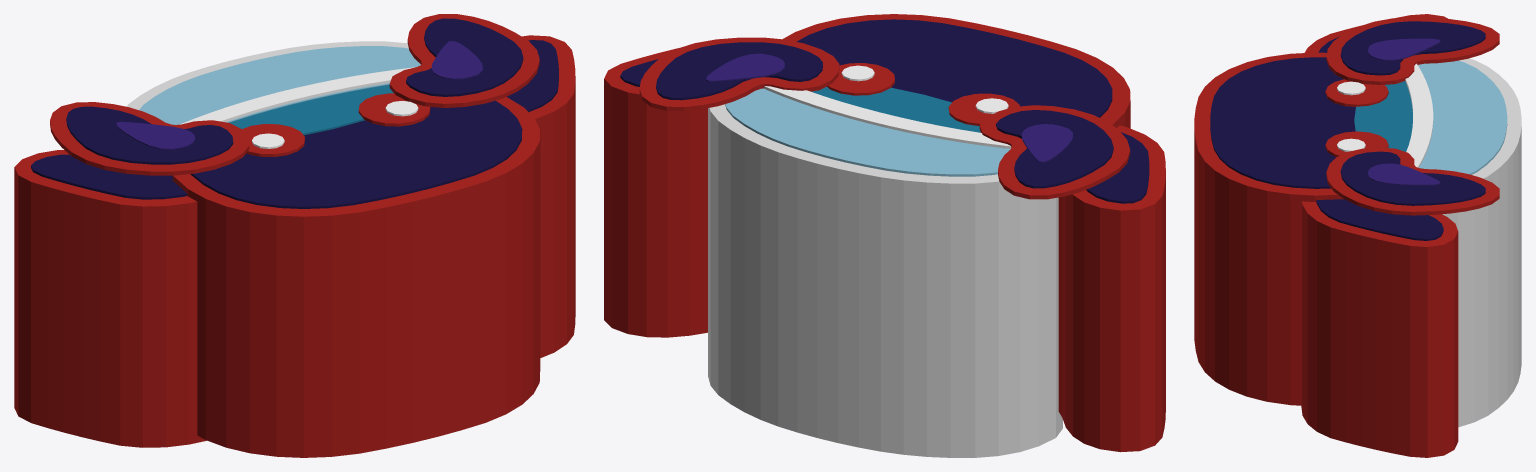
Rendered from bag_caranguejo.fbx.
The picture shows the model from 3 angles, left to right: view 1: azimuth 30°, elevation 25°; view 2: azimuth 150°, elevation 25°; view 3: azimuth 270°, elevation 25°; orthographic projection. The views are drawn at different scales.
Parts seen in each view (by area): view 1: bag_caranguejo_mochila; view 2: bag_caranguejo_mochila; view 3: bag_caranguejo_mochila.
Boxes of the visible parts, box(x1,y1,x2,y2) form: bag_caranguejo_mochila: box(14, 14, 575, 457); bag_caranguejo_mochila: box(604, 14, 1165, 457); bag_caranguejo_mochila: box(1194, 14, 1521, 457).
Size of the model in its own units: 3.84 by 1.92 by 2.28.
Materials: 1 (1 with a texture image).
